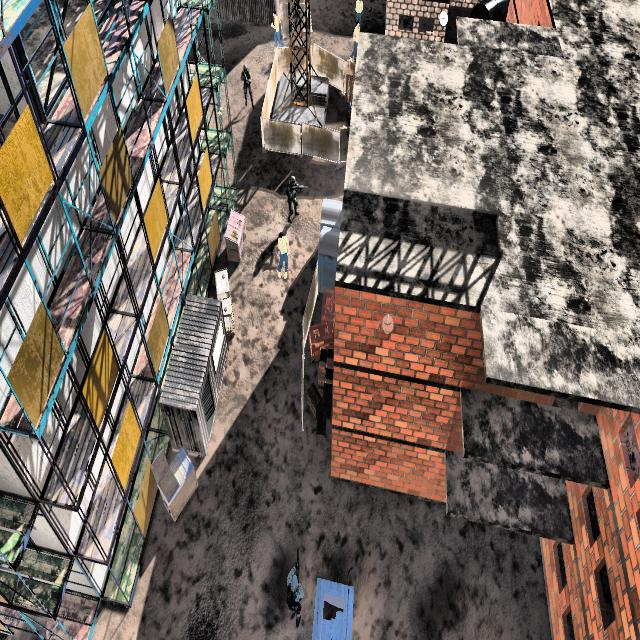bad: (282, 550, 309, 631), (279, 164, 308, 224), (237, 55, 257, 114)
good: (275, 229, 291, 285), (265, 5, 285, 47), (345, 24, 359, 56), (351, 0, 365, 24)
